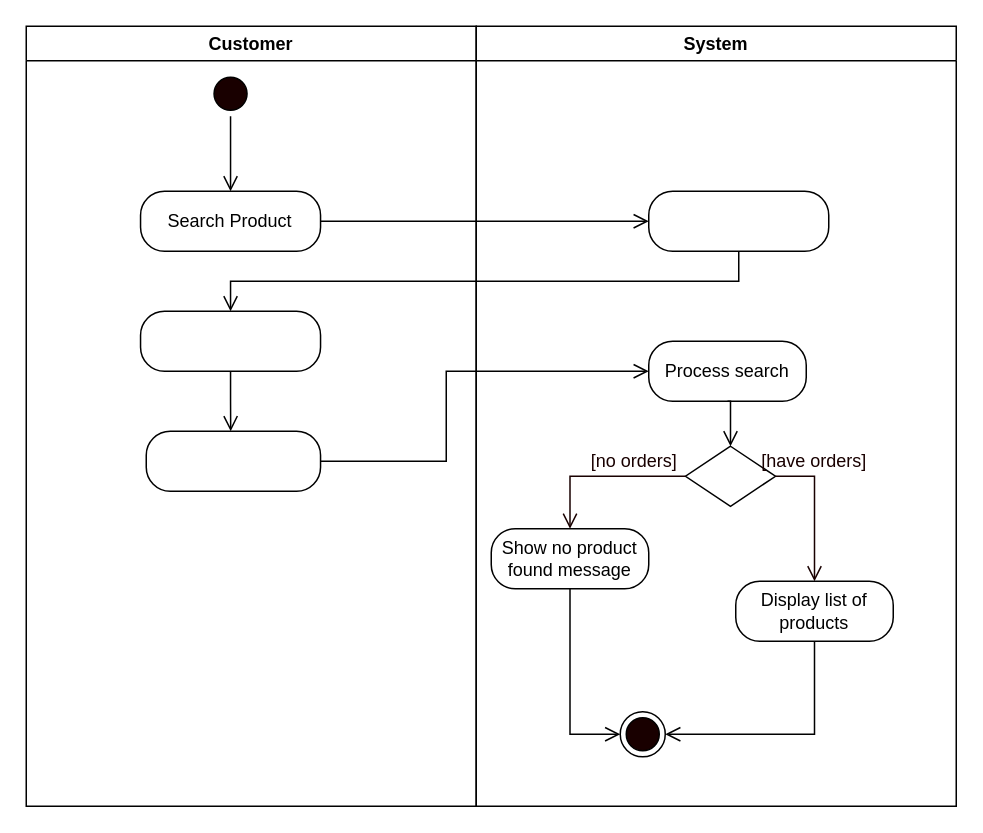
This 983x833 diagram has some shape labels left out. Here are the shapes that lost their labels. From the top down, the centre of each, then its label:
At (x=738, y=220): "Display search product input".
At (x=230, y=340): "Input product name".
At (x=233, y=460): "Submit search".
